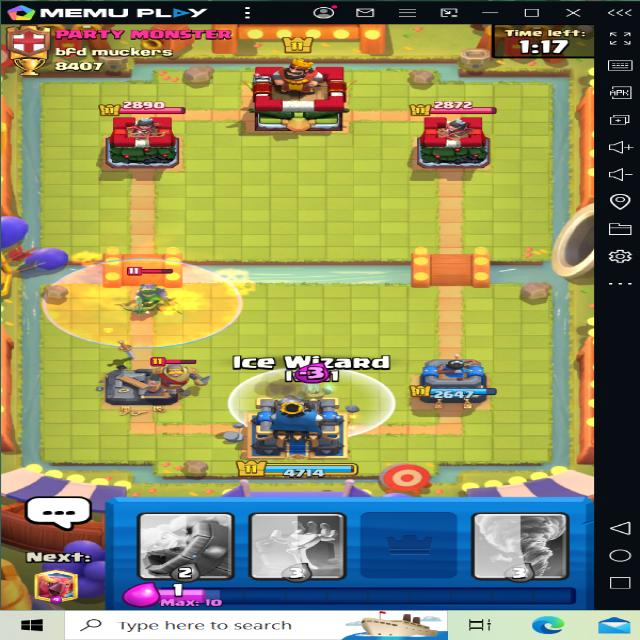archer-queen: (122, 262, 182, 320)
knight: (125, 354, 212, 400)
